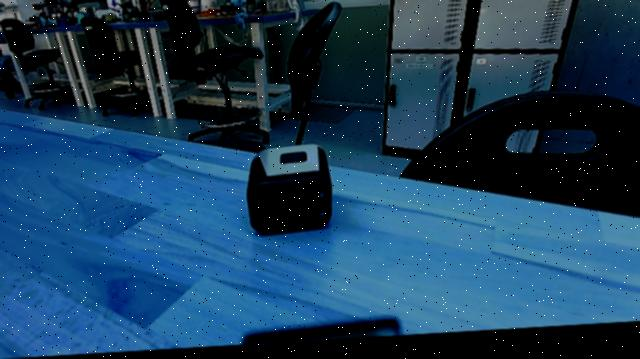adapter: (240, 144, 336, 245)
